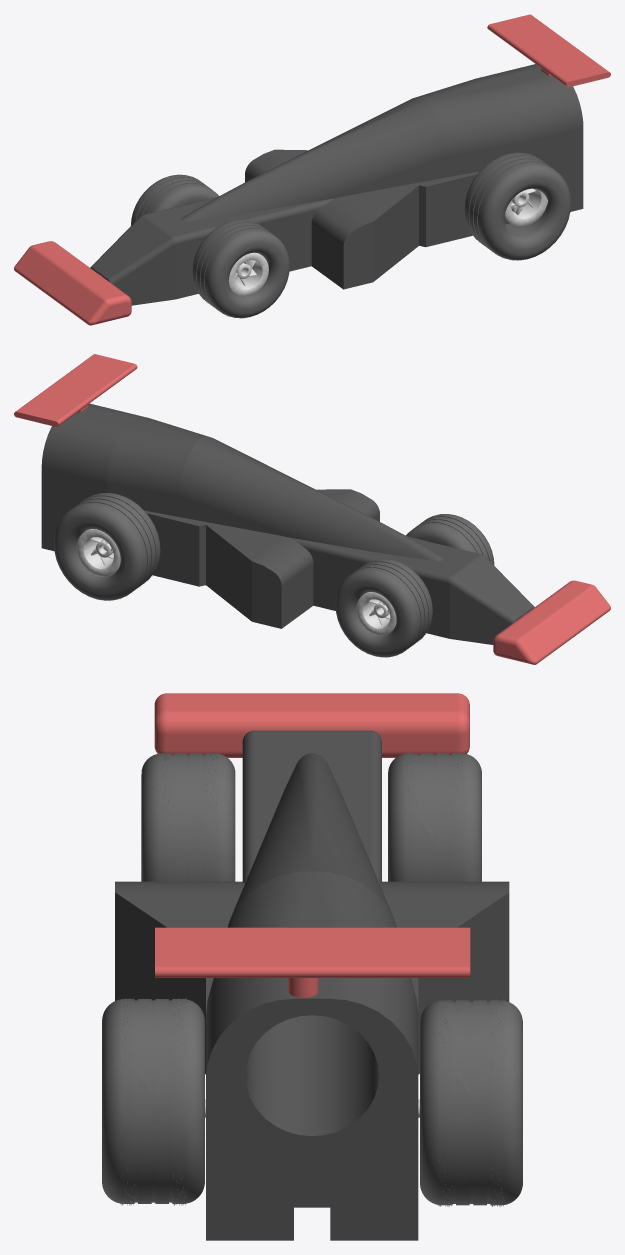
File: f1_carog.fbx
The picture shows the model from 3 angles, top to bottom: view 1: azimuth 30°, elevation 25°; view 2: azimuth 150°, elevation 25°; view 3: azimuth 270°, elevation 25°; orthographic projection. The views are drawn at different scales.
Visible parts, largest first — view 1: Main, Tire.003, Tire.001, Body2, Body1.001, Tire, Rim.001, Rim.003; view 2: Main, Tire.002, Tire, Body2, Body1.001, Tire.001, Rim.002, Rim; view 3: Main, Tire.002, Tire.003, Body1.001, Body2, Tire.001, Tire.
Boxes of the visible parts, x1=… form: Main: x1=90, y1=64, x2=583, y2=305; Tire.003: x1=464, y1=152, x2=570, y2=260; Tire.001: x1=192, y1=219, x2=289, y2=318; Body2: x1=14, y1=241, x2=131, y2=325; Body1.001: x1=487, y1=14, x2=610, y2=87; Tire: x1=131, y1=174, x2=218, y2=225; Rim.001: x1=228, y1=252, x2=268, y2=296; Rim.003: x1=504, y1=188, x2=547, y2=226; Main: x1=41, y1=403, x2=534, y2=644; Tire.002: x1=54, y1=493, x2=160, y2=600; Tire: x1=335, y1=559, x2=432, y2=657; Body2: x1=493, y1=580, x2=610, y2=664; Body1.001: x1=14, y1=354, x2=137, y2=426; Tire.001: x1=406, y1=514, x2=494, y2=565; Rim.002: x1=76, y1=529, x2=120, y2=576; Rim: x1=356, y1=592, x2=396, y2=635; Main: x1=115, y1=730, x2=509, y2=1240; Tire.002: x1=420, y1=999, x2=522, y2=1206; Tire.003: x1=102, y1=998, x2=204, y2=1205; Body1.001: x1=155, y1=927, x2=470, y2=997; Body2: x1=154, y1=693, x2=469, y2=757; Tire.001: x1=141, y1=752, x2=235, y2=881; Tire: x1=388, y1=752, x2=481, y2=881.
Bounding box in the file's own units: 59.45 × 17.44 × 20.82.
